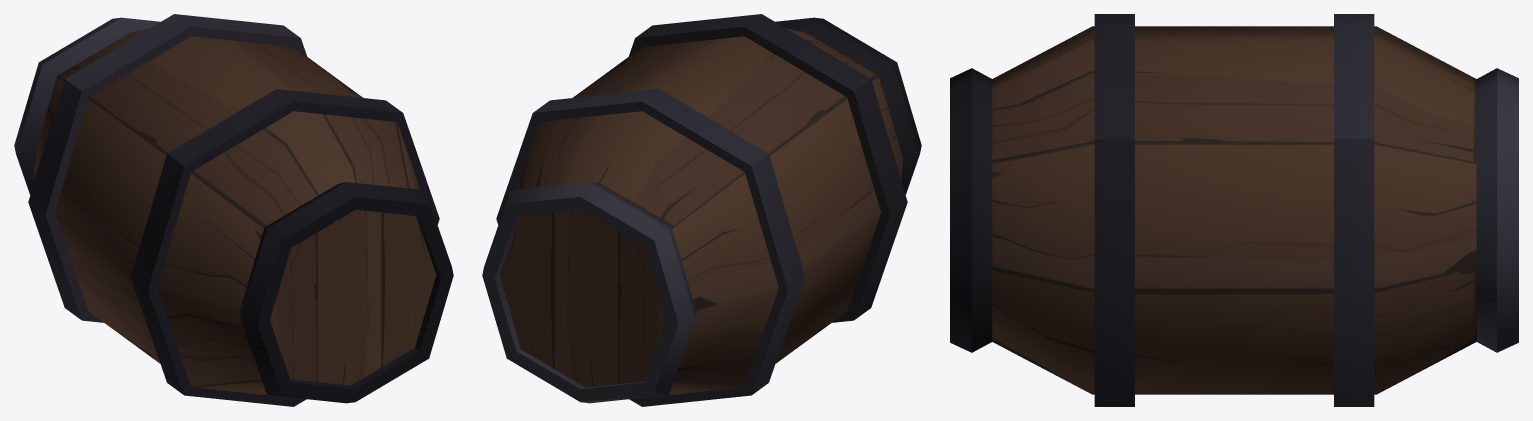
Rendered from Barrel 01.FBX.
3 renders of one model, left to right at view 1: azimuth 30°, elevation 25°; view 2: azimuth 150°, elevation 25°; view 3: azimuth 270°, elevation 25°, orthographic. The views are drawn at different scales.
Parts seen in each view (by area): view 1: Barrel 01; view 2: Barrel 01; view 3: Barrel 01.
Boxes of the visible parts, <box> form: Barrel 01: <box>14,14,453,406</box>; Barrel 01: <box>482,14,921,406</box>; Barrel 01: <box>950,14,1518,406</box>.
Size of the model in its own units: 68.75 by 68.75 by 99.19.
